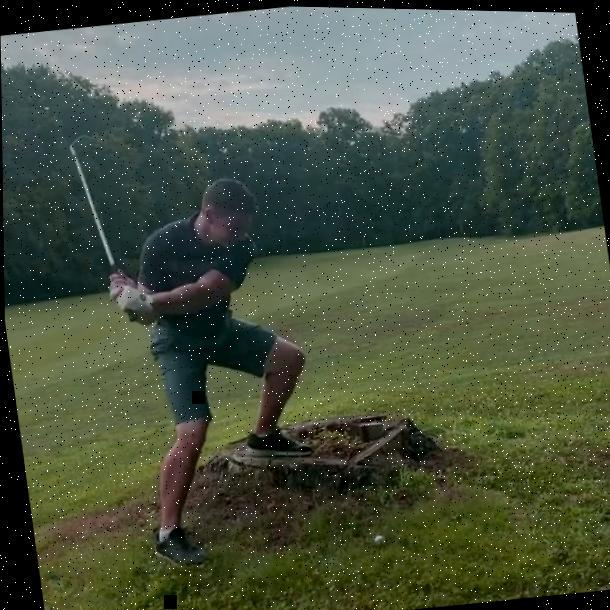ClubHead: (66, 134, 92, 153)
GolfBall: (370, 532, 385, 545)
